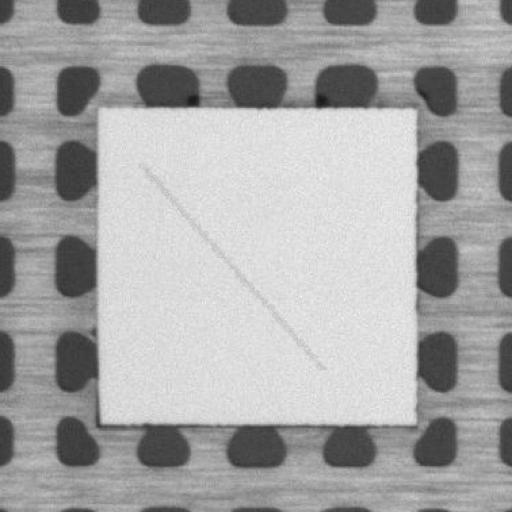DIE_CRACK: (140, 166, 322, 368)
